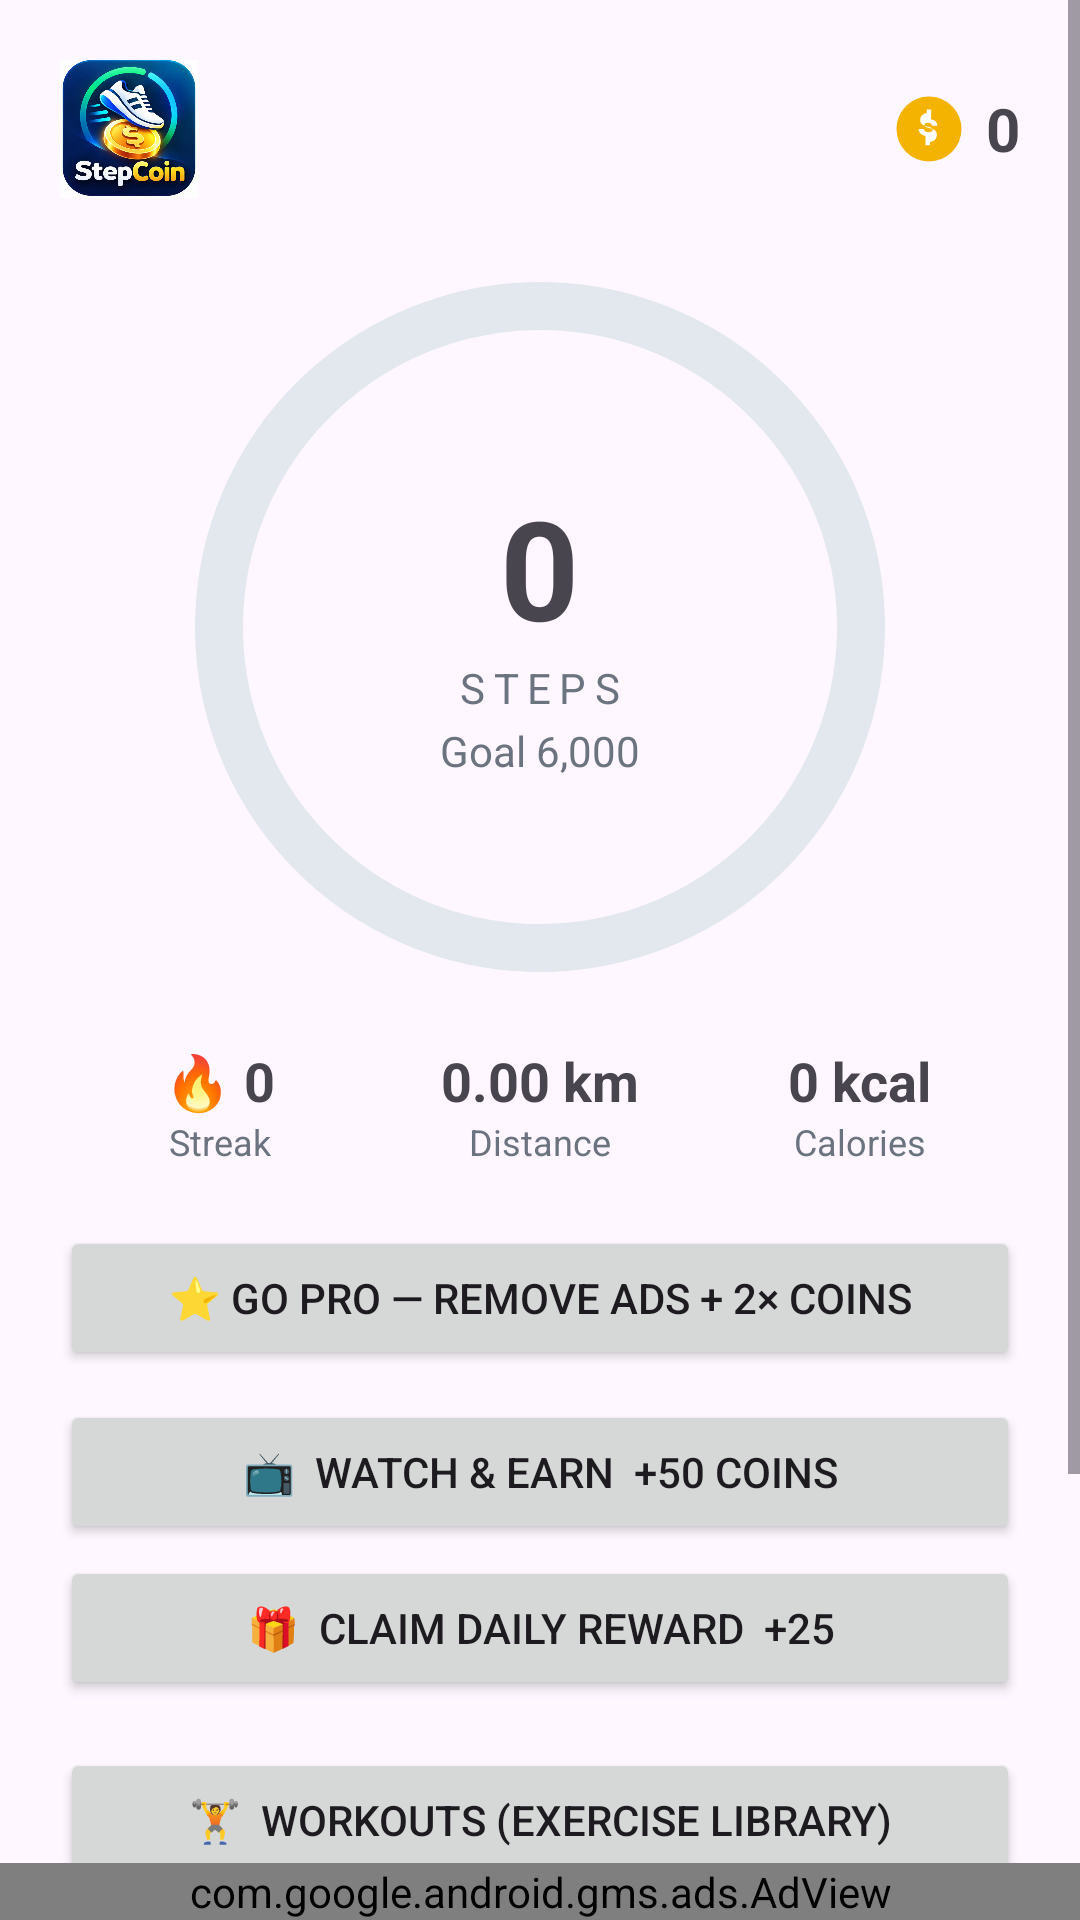

Icons on this 1080px x 1920px Android screen, each with the point to tap as [x,y]:
coins: [929,129]
